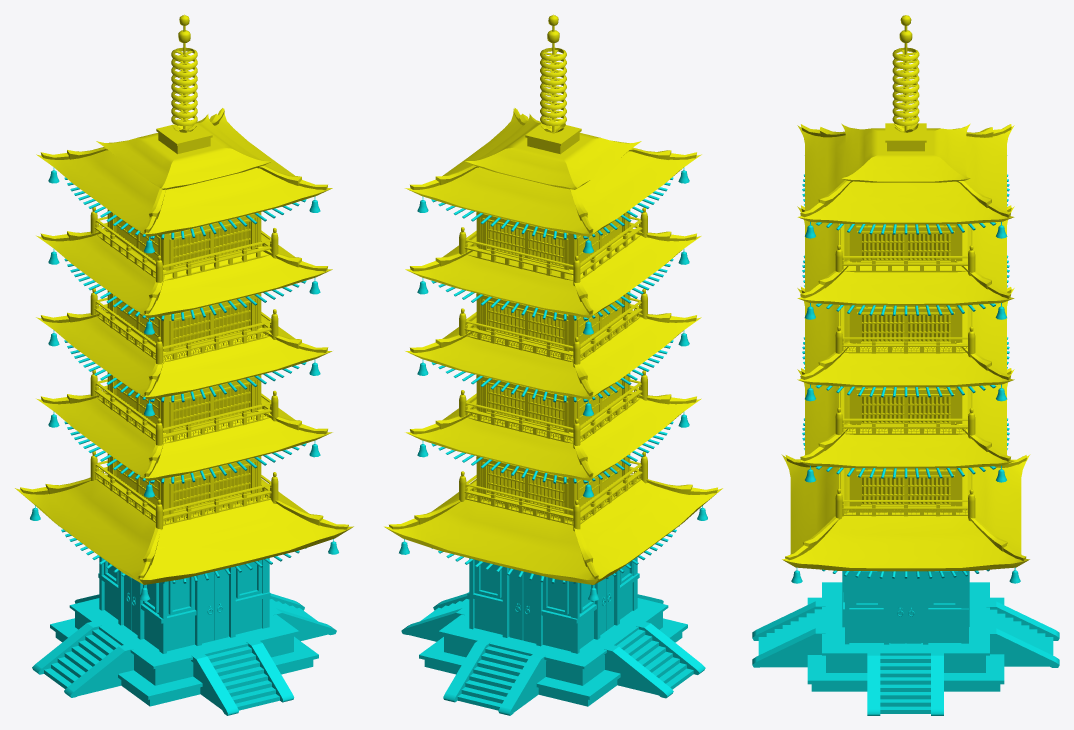
Rendered from lp_tall pagoda.fbx.
The picture shows the model from 3 angles, left to right: view 1: azimuth 30°, elevation 25°; view 2: azimuth 150°, elevation 25°; view 3: azimuth 270°, elevation 25°; orthographic projection.
Parts seen in each view (by area): view 1: polySurface214; view 2: polySurface214; view 3: polySurface214.
Part boxes in pixels (x1,y1,x2,y2): polySurface214: [15, 14, 353, 715]; polySurface214: [384, 14, 722, 715]; polySurface214: [752, 15, 1059, 715].
Bounding box in the file's own units: 20.63 × 47.18 × 20.63.
